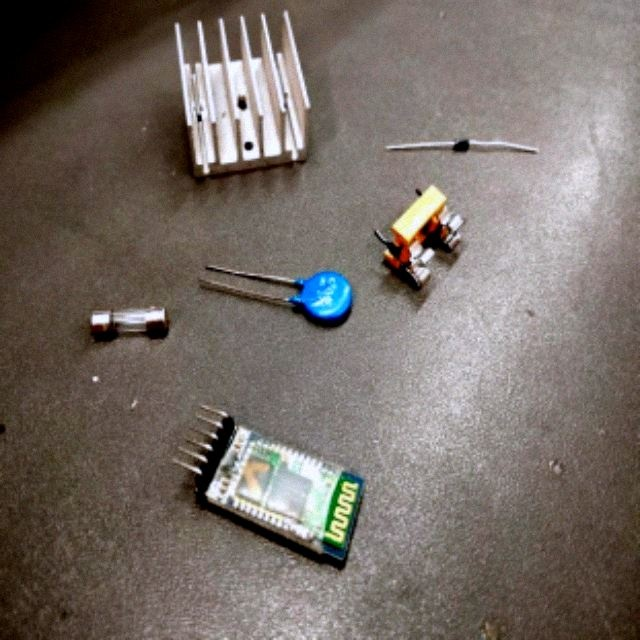capacitor: (285, 270, 355, 328)
